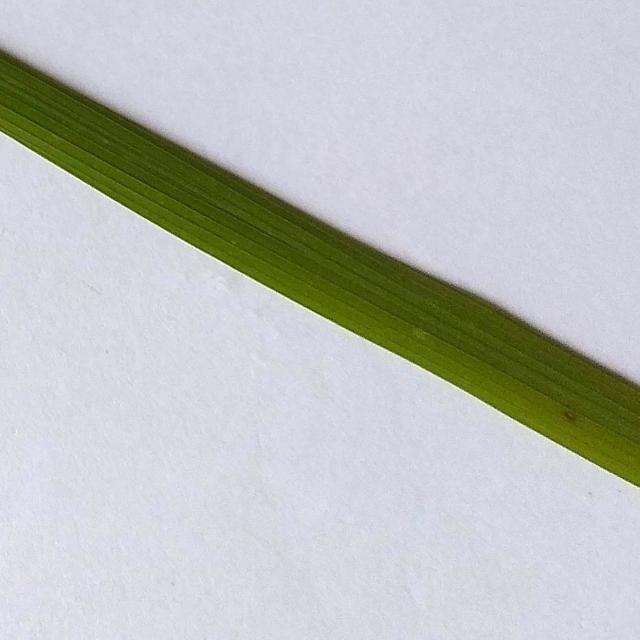Blast: (563, 406, 583, 428)
